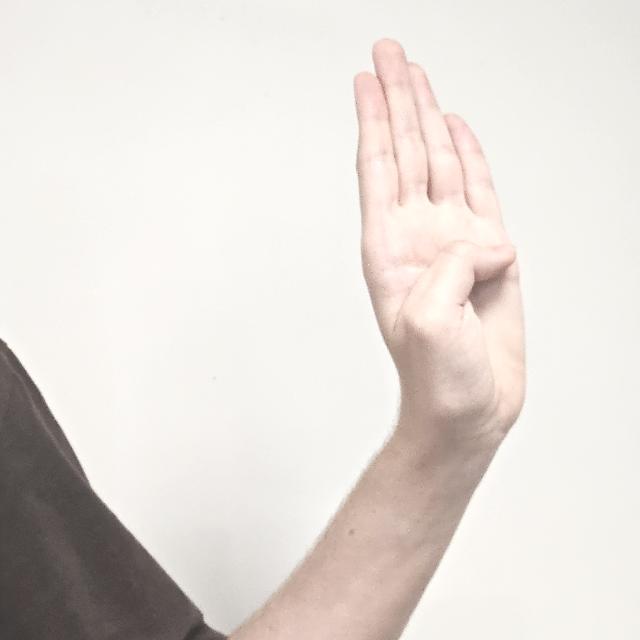Baixo: (352, 34, 528, 444)
